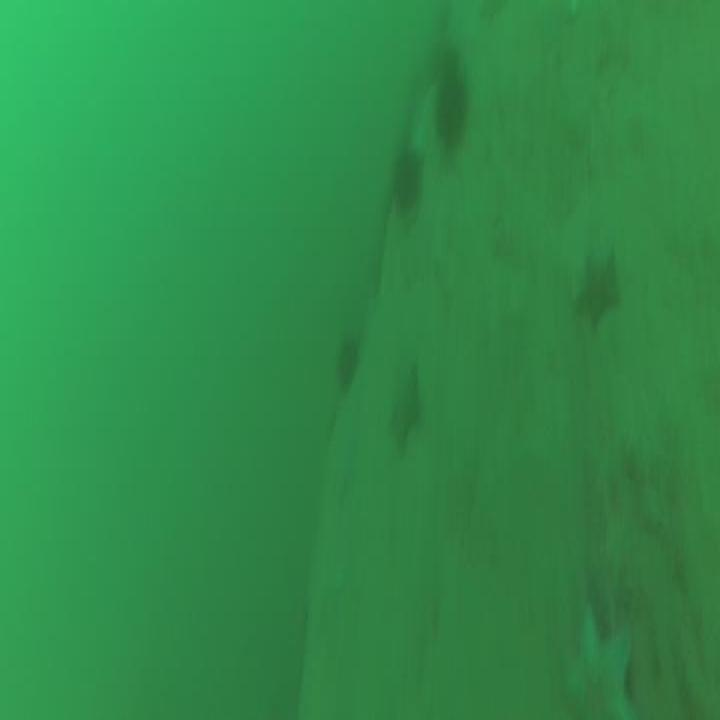echinus: (426, 71, 474, 153), (386, 135, 427, 222), (327, 331, 364, 400)
starfish: (562, 602, 637, 720), (379, 363, 427, 457), (571, 256, 621, 334)
